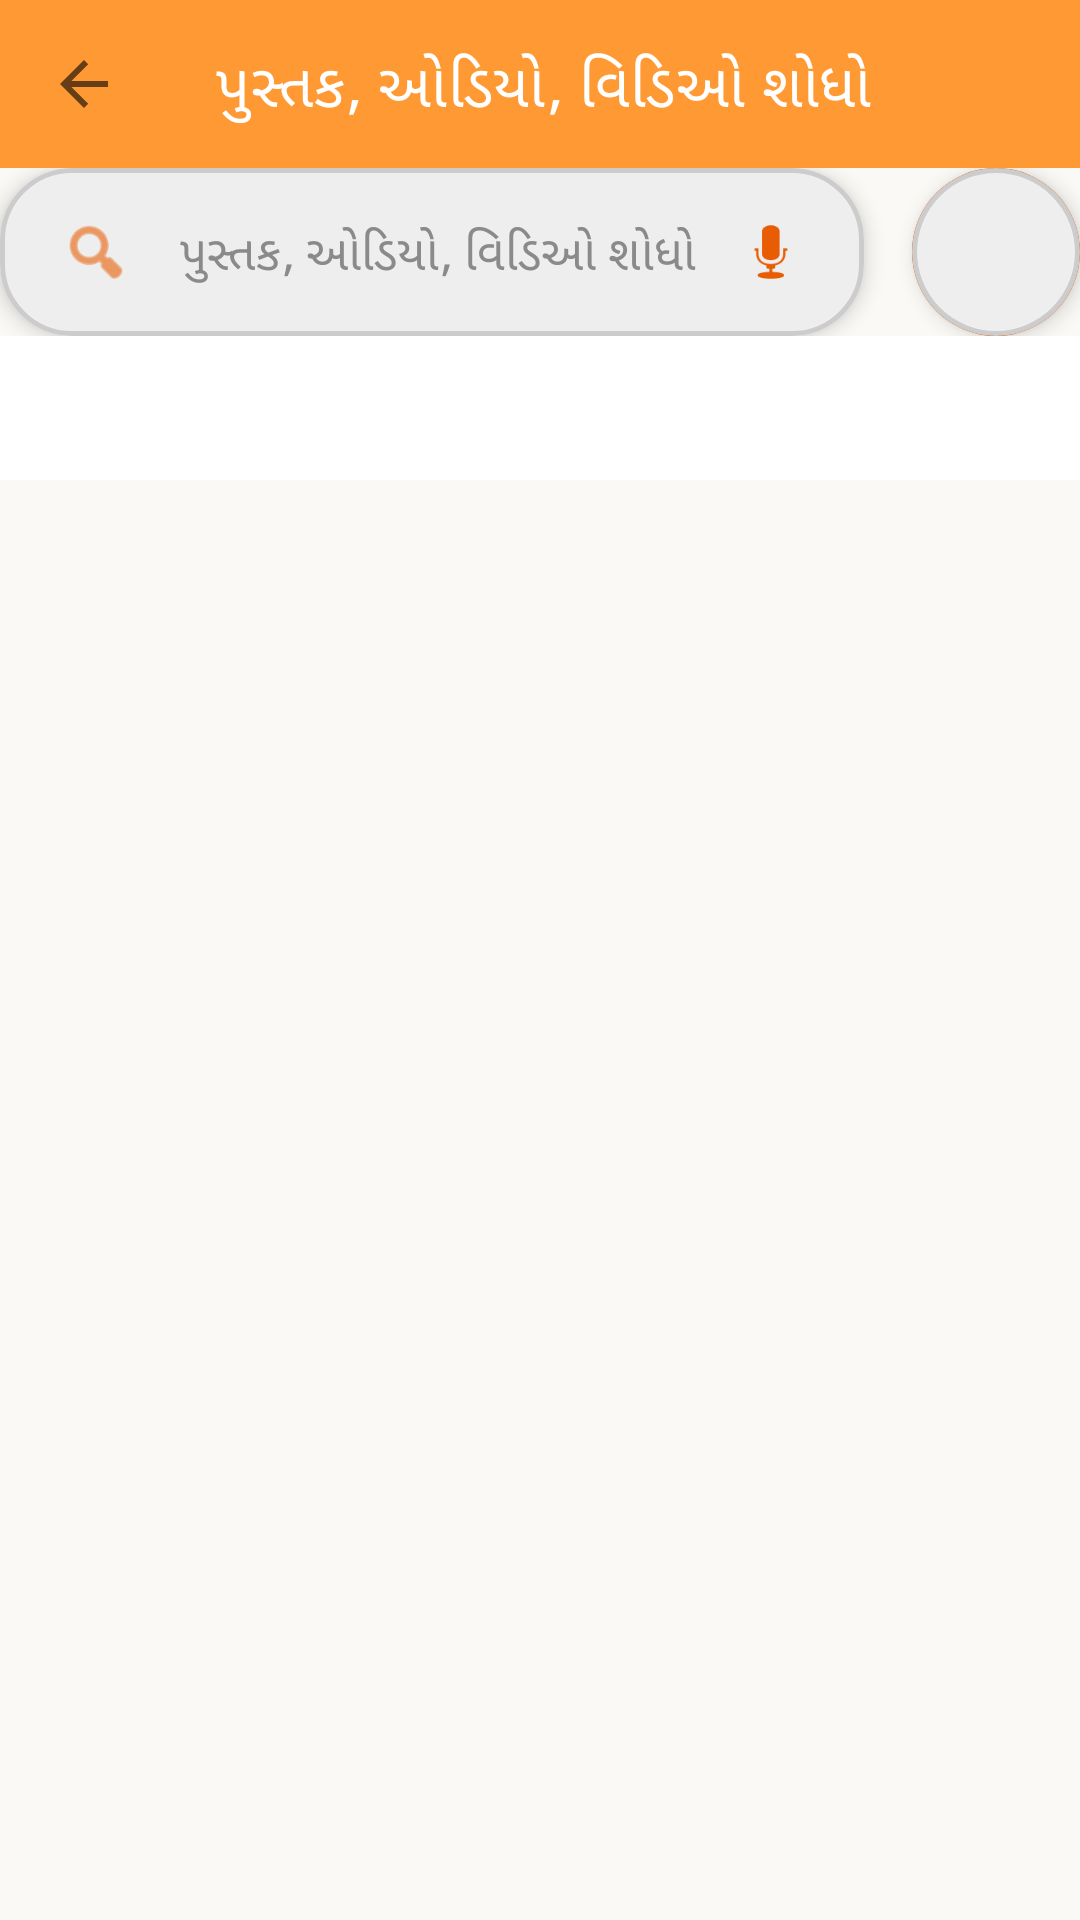

Icons on this 1080w x 1920h Android screen, each with its box as [x1=x1, y1=y1, x2=x2, y2=y2]:
Search: [x1=69, y1=226, x2=123, y2=279]
Voice search: [x1=754, y1=225, x2=788, y2=279]
